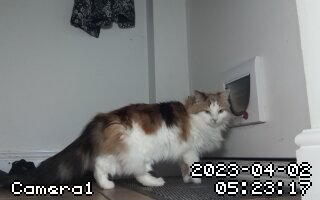clara: (28, 84, 243, 186)
